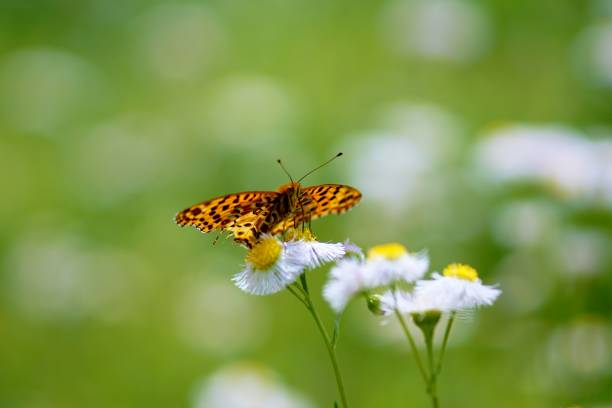Argyreus hyperbius: (166, 139, 368, 246)
butterfly: (168, 141, 370, 248)
